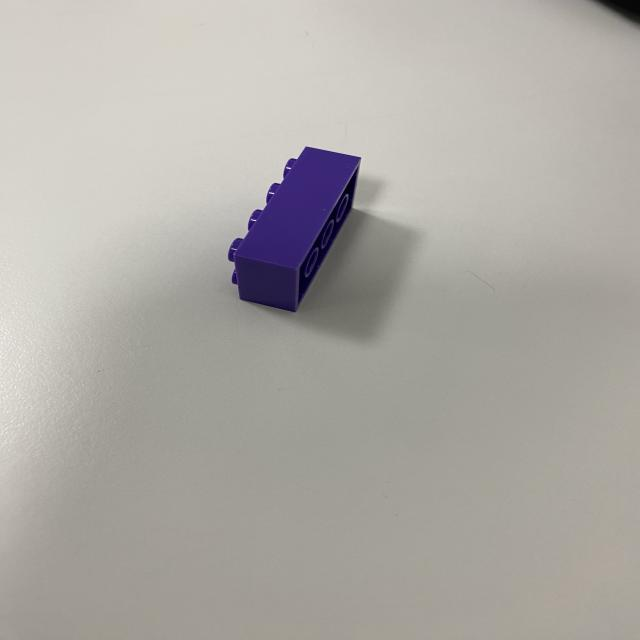C4x2x1: (224, 142, 374, 299)
